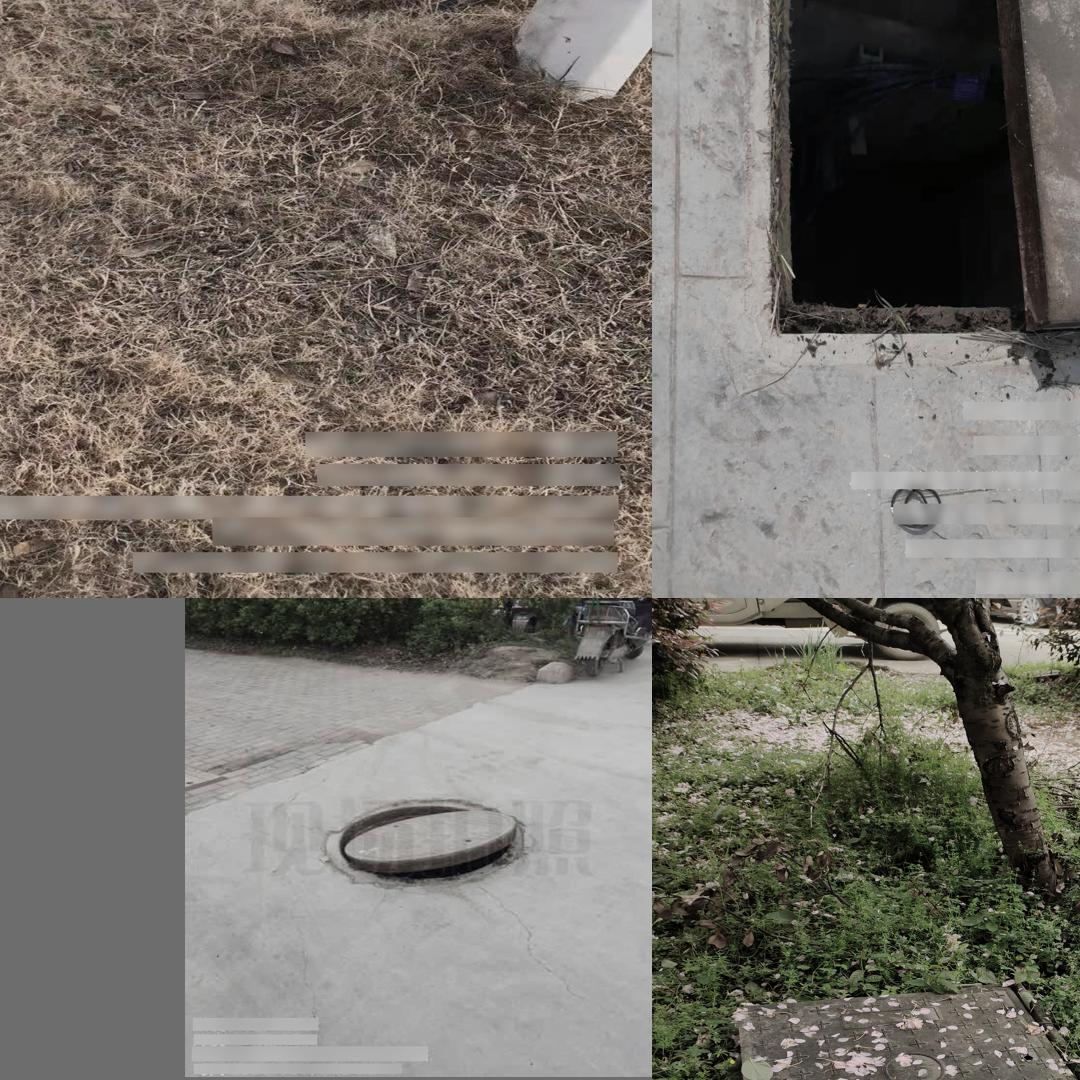uncovered: (773, 0, 1080, 336), (727, 980, 1080, 1080), (325, 800, 528, 887)
